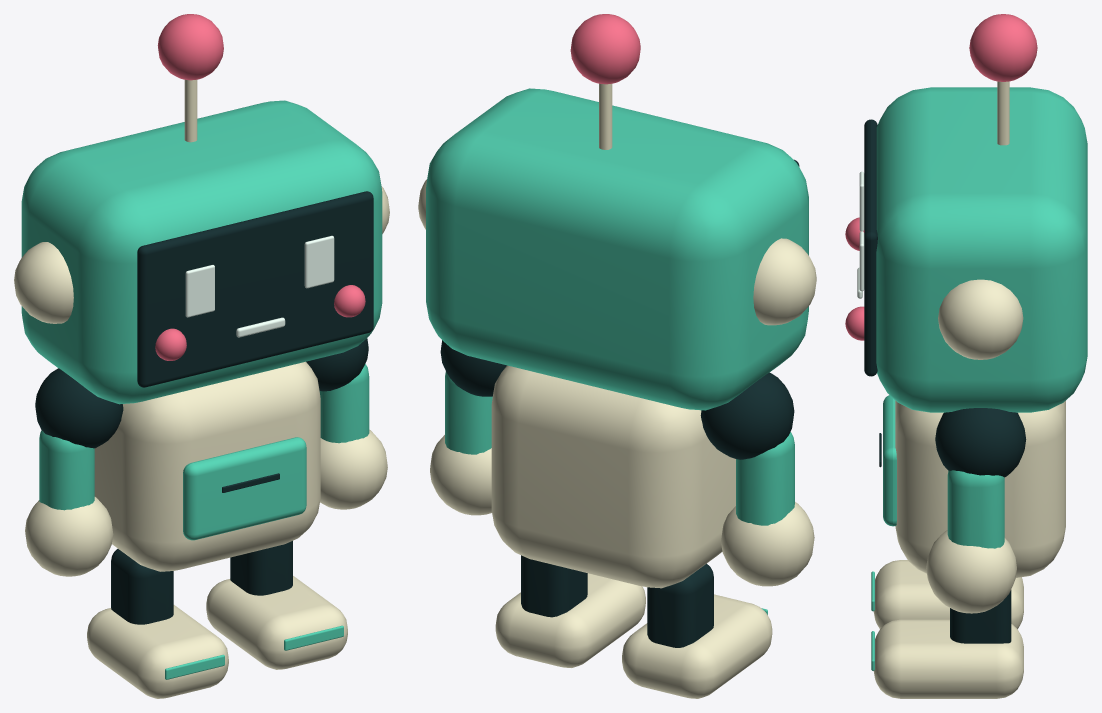
File: boop.glb
The picture shows the model from 3 angles, left to right: view 1: azimuth 30°, elevation 25°; view 2: azimuth 150°, elevation 25°; view 3: azimuth 270°, elevation 25°; orthographic projection. The views are drawn at different scales.
Parts seen in each view (by area): view 1: BOT_head, Face glass, BOT_body, Utility pocket, Sneaker, Sneaker.001, Mitten, Shoulder, Mitten.001, Ear hinge, Arm, Leg (+11 smaller); view 2: BOT_head, BOT_body, Sneaker, Sneaker.001, Mitten, Shoulder, Ear hinge, Leg, Arm, Antenna heart, Mitten.001, Leg.001 (+3 smaller); view 3: BOT_head, BOT_body, Sneaker.001, Ear hinge.001, Mitten.001, Shoulder.001, Arm.001, Sneaker, Antenna heart, Face glass, Leg.001, Utility pocket (+3 smaller).
Boxes of the visible parts, x1,y1,x2,y2 form: BOT_head: (21, 100, 382, 404); Face glass: (137, 191, 373, 387); BOT_body: (94, 361, 320, 571); Utility pocket: (183, 437, 306, 540); Sneaker: (87, 605, 228, 698); Sneaker.001: (206, 576, 347, 669); Mitten: (25, 497, 113, 576); Shoulder: (35, 368, 123, 448); Mitten.001: (320, 429, 387, 509); Ear hinge: (14, 242, 73, 323); Arm: (39, 430, 94, 510); Leg: (111, 549, 173, 624); BOT_head: (426, 88, 808, 410); BOT_body: (491, 365, 735, 588); Sneaker: (622, 594, 772, 698); Sneaker.001: (495, 573, 645, 667); Mitten: (721, 502, 814, 586); Shoulder: (700, 372, 794, 459); Ear hinge: (753, 238, 816, 325); Leg: (647, 563, 713, 647); Arm: (736, 432, 794, 525); Antenna heart: (570, 14, 640, 84); Mitten.001: (430, 435, 491, 515); Leg.001: (521, 555, 587, 617); BOT_head: (876, 87, 1087, 412); BOT_body: (895, 400, 1065, 577); Sneaker.001: (873, 619, 1023, 698); Ear hinge.001: (938, 279, 1023, 359); Mitten.001: (926, 530, 1016, 613); Shoulder.001: (935, 408, 1026, 477); Arm.001: (947, 470, 1004, 548); Sneaker: (873, 560, 1023, 628); Antenna heart: (969, 14, 1037, 81); Face glass: (864, 119, 877, 376); Leg.001: (950, 590, 1011, 643); Utility pocket: (883, 395, 896, 526).
Bounding box in the file's own units: 1.9 × 3.1 × 1.06.
